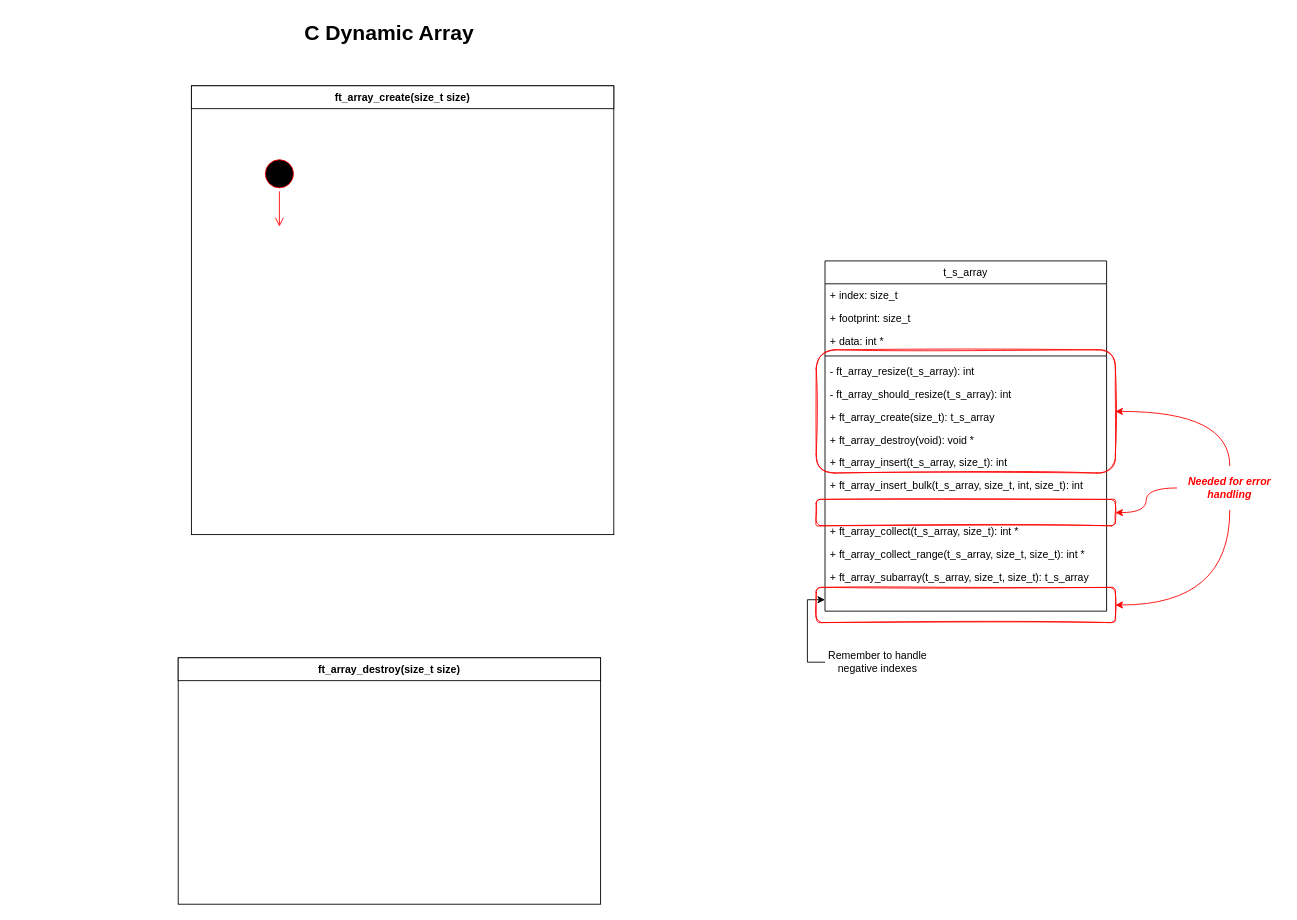
The diagram is 1297 pixels wide and 920 high, and some of its shapes have lost their labels. Here are the shapes that lost their labels. From the top down, the centre of each, then its label:
(965,512): + ft_array_get(t_s_array, size_t): int
(965,605): + ft_array_size(t_s_array): int
